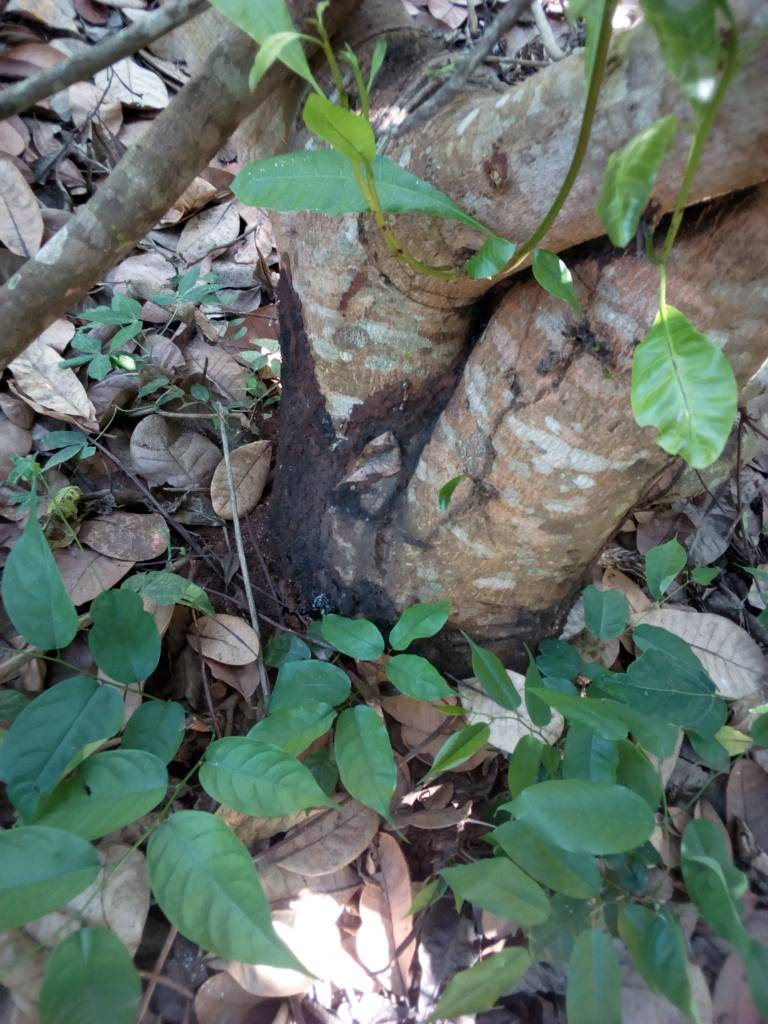Termites: (272, 299, 333, 608)
